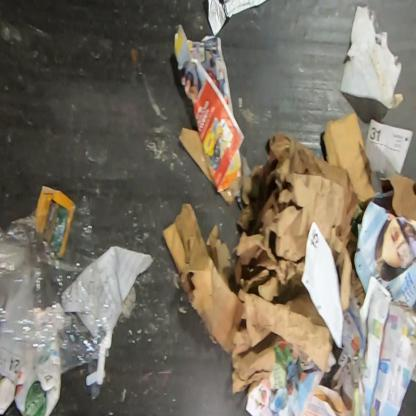cardboard: (162, 152, 352, 395), (266, 131, 364, 261), (322, 111, 376, 201), (178, 126, 212, 185), (381, 171, 415, 222)
soft_plastic: (0, 196, 115, 400)
